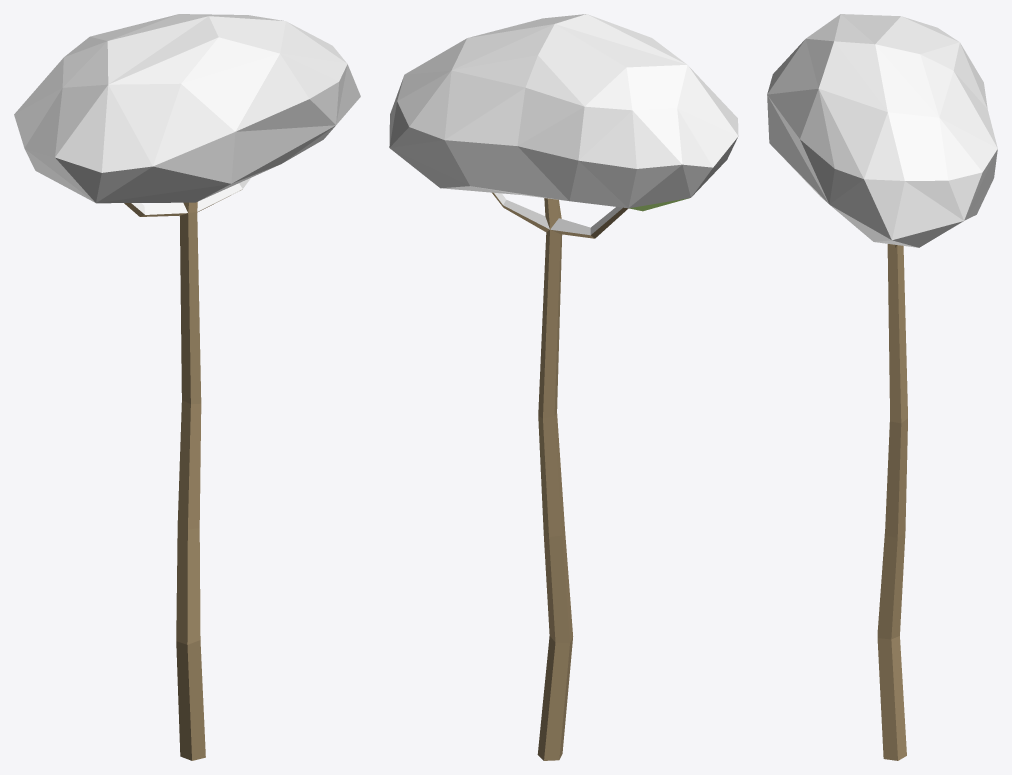
The model's file is Acacia_Tree_m_Snow_BT_04.fbx.
3 views of the same model, side by side, from view 1: azimuth 30°, elevation 25°; view 2: azimuth 150°, elevation 25°; view 3: azimuth 270°, elevation 25° (orthographic). The views are drawn at different scales.
Parts seen in each view (by area): view 1: Acacia_Tree_m_Snow_BT_04; view 2: Acacia_Tree_m_Snow_BT_04; view 3: Acacia_Tree_m_Snow_BT_04.
Boxes of the visible parts, x1,y1,x2,y2 form: Acacia_Tree_m_Snow_BT_04: [14, 14, 360, 760]; Acacia_Tree_m_Snow_BT_04: [389, 14, 738, 760]; Acacia_Tree_m_Snow_BT_04: [767, 14, 997, 760].
Bounding box in the file's own units: 457 × 973 × 285.
